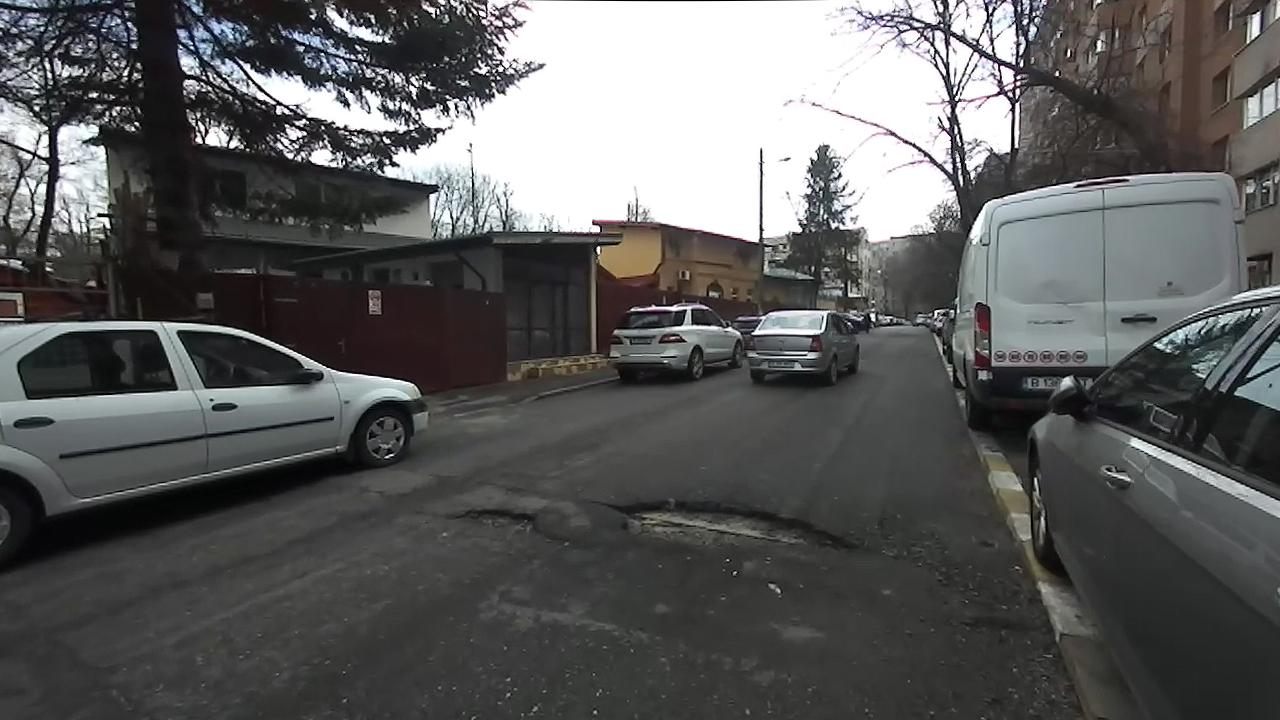pothole: (604, 494, 866, 565), (450, 502, 561, 538)
